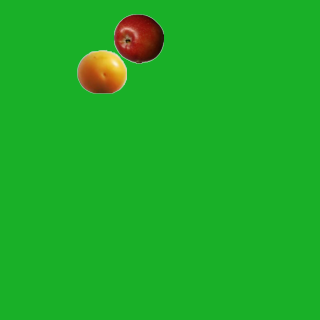Apple Braeburn: (113, 13, 163, 63)
Cherry Wax Yellow: (76, 46, 126, 96)
